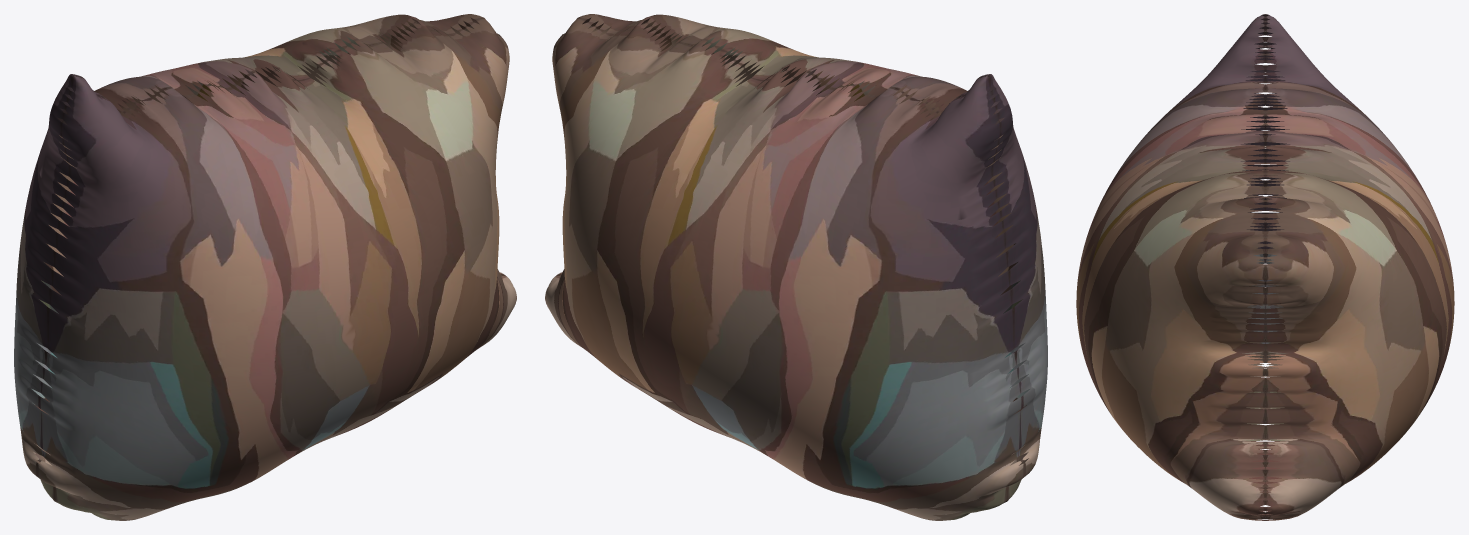
Rendered from rock_cliff.glb.
The picture shows the model from 3 angles, left to right: view 1: azimuth 30°, elevation 25°; view 2: azimuth 150°, elevation 25°; view 3: azimuth 270°, elevation 25°; orthographic projection. The views are drawn at different scales.
Visible parts, largest first — view 1: rock_cliff; view 2: rock_cliff; view 3: rock_cliff.
Boxes of the visible parts, x1=… form: rock_cliff: x1=14, y1=14, x2=516, y2=520; rock_cliff: x1=545, y1=14, x2=1047, y2=520; rock_cliff: x1=1076, y1=14, x2=1454, y2=520.
Size of the model in its own units: 0.9887 by 0.8889 by 0.7383.
1 material, 1 textured.
